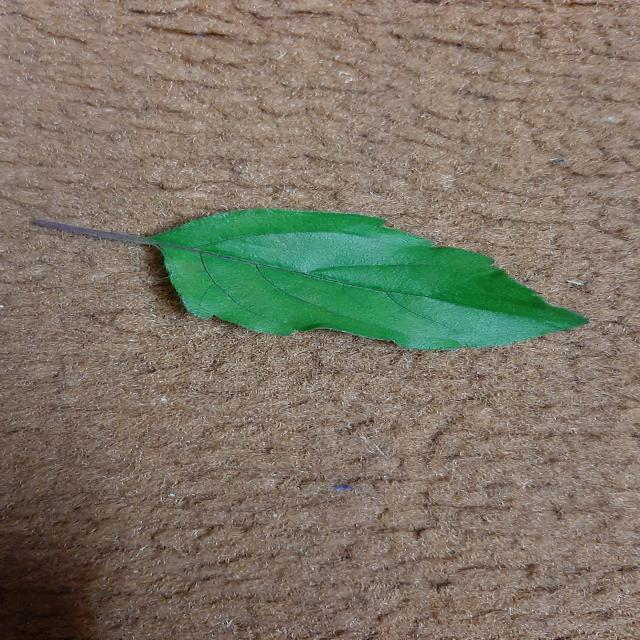tulsi: (152, 209, 585, 350)
